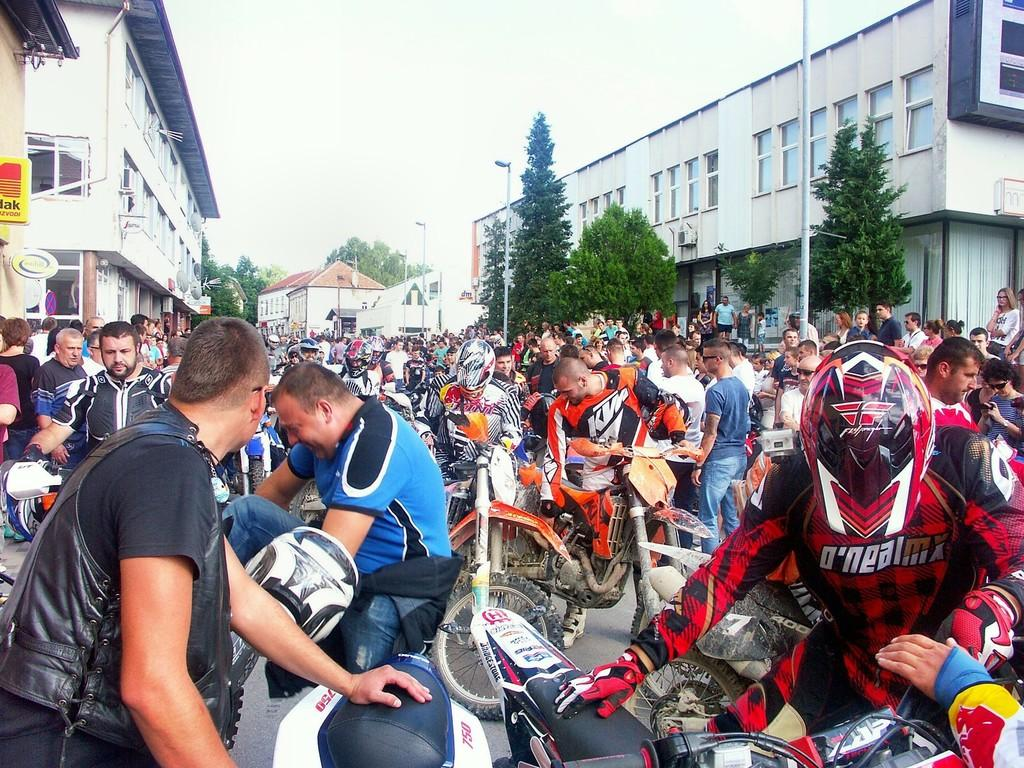helmet: (799, 340, 936, 539), (244, 526, 359, 644), (454, 338, 496, 400), (343, 340, 372, 377), (296, 337, 319, 365), (363, 336, 386, 364), (267, 334, 280, 350)
nohelmet: (168, 316, 272, 455), (270, 361, 356, 462), (925, 336, 984, 406), (99, 321, 140, 380), (552, 357, 592, 407), (982, 360, 1018, 398), (54, 328, 84, 370), (701, 338, 731, 375), (659, 344, 689, 378), (1, 317, 30, 351), (492, 346, 512, 379), (606, 338, 625, 365), (539, 338, 557, 364), (996, 288, 1014, 312), (903, 312, 921, 333), (782, 328, 799, 350), (876, 301, 892, 321), (630, 340, 647, 358), (834, 311, 850, 329), (854, 311, 869, 329)
